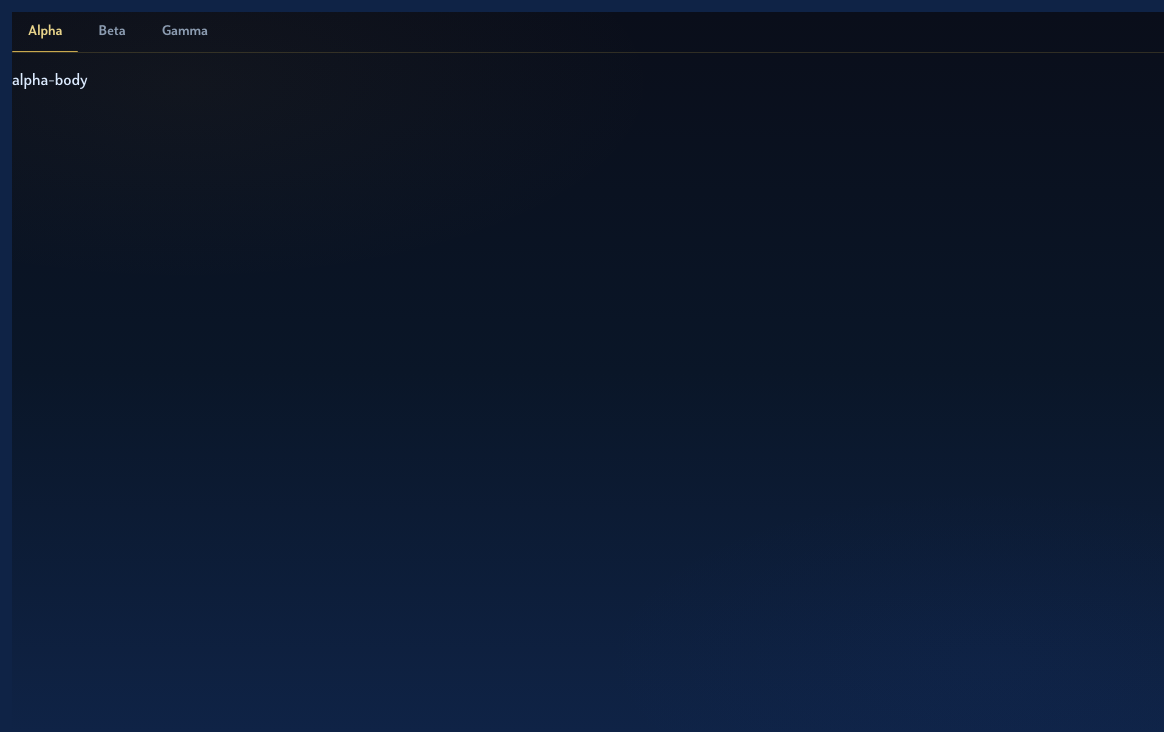
CanonicalTabs — array API › clicking a tab shows its content and hides others
Check: the text "alpha-body" is shown, box top-left (12, 73), bottom-right (88, 89)
Click the tab "Beta" at (112,32), box top-left (82, 12), bottom-right (142, 52)
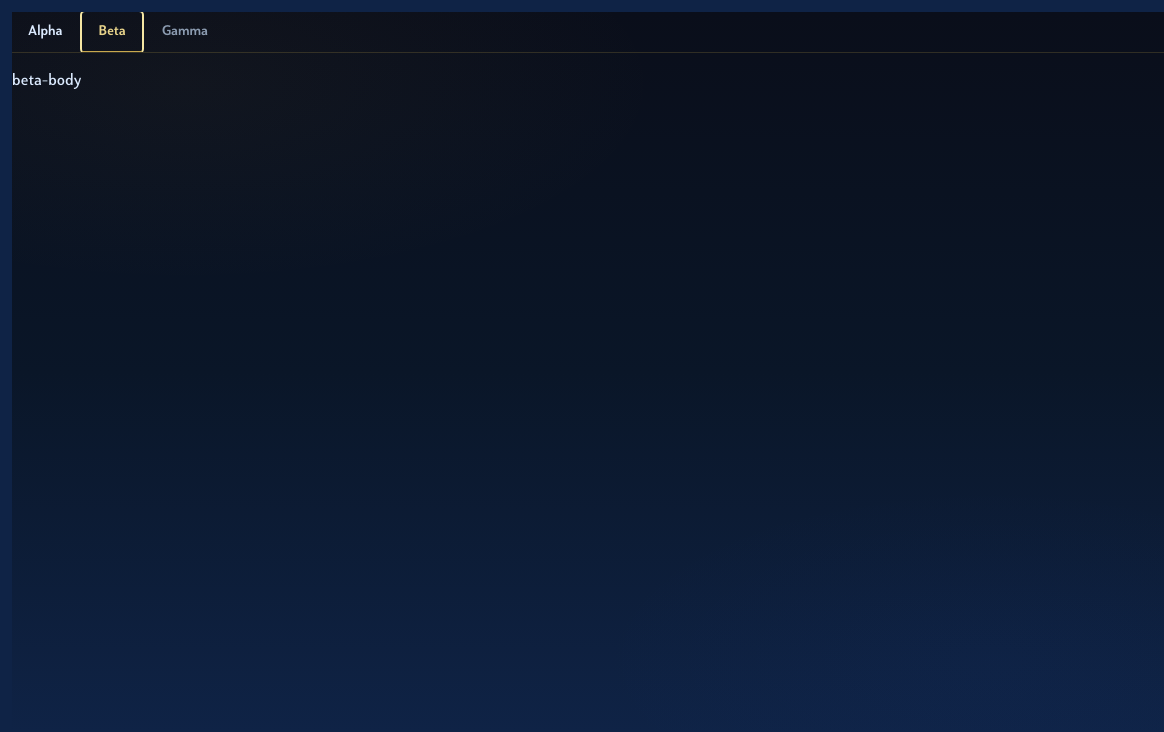
Check: the text "beta-body" is shown, box top-left (12, 73), bottom-right (81, 89)
Check: the text "alpha-body" is gone
